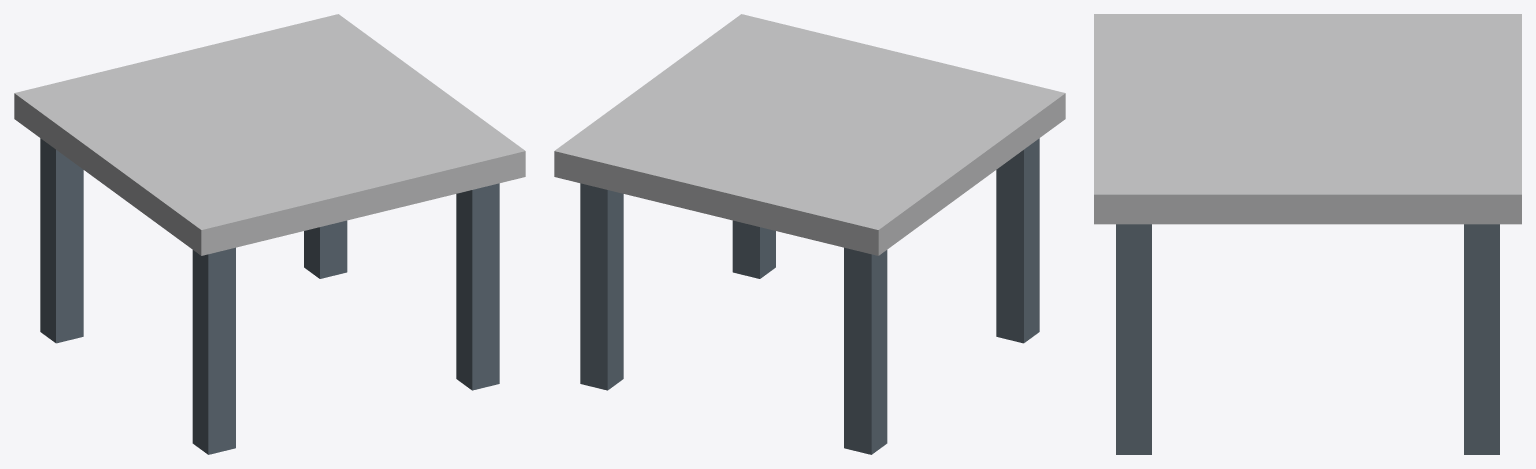
Rendered from mesa_comedor.glb.
The picture shows the model from 3 angles, left to right: view 1: azimuth 30°, elevation 25°; view 2: azimuth 150°, elevation 25°; view 3: azimuth 270°, elevation 25°; orthographic projection. The views are drawn at different scales.
Visible parts, largest first — view 1: mesa_comedor_00, mesa_comedor_02, mesa_comedor_04, mesa_comedor_01, mesa_comedor_03; view 2: mesa_comedor_00, mesa_comedor_01, mesa_comedor_03, mesa_comedor_02, mesa_comedor_04; view 3: mesa_comedor_00, mesa_comedor_03, mesa_comedor_04.
Part boxes in pixels (x1,y1,x2,y2): mesa_comedor_00: [14, 14, 525, 255]; mesa_comedor_02: [192, 247, 235, 454]; mesa_comedor_04: [456, 183, 499, 390]; mesa_comedor_01: [40, 138, 83, 343]; mesa_comedor_03: [304, 220, 347, 278]; mesa_comedor_00: [554, 14, 1065, 255]; mesa_comedor_01: [844, 247, 887, 454]; mesa_comedor_03: [580, 183, 623, 390]; mesa_comedor_02: [996, 138, 1039, 343]; mesa_comedor_04: [732, 220, 775, 278]; mesa_comedor_00: [1094, 14, 1521, 224]; mesa_comedor_03: [1464, 224, 1499, 454]; mesa_comedor_04: [1116, 224, 1151, 454].
Bounding box in the file's own units: 1.18 × 0.82 × 1.18.
